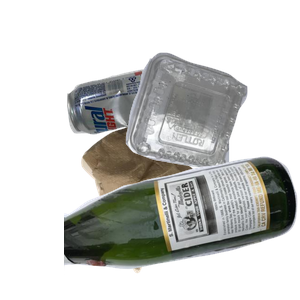glass: (64, 154, 300, 300)
metal: (65, 65, 231, 192)
plastic: (123, 50, 300, 214)
trash: (79, 123, 281, 300)
